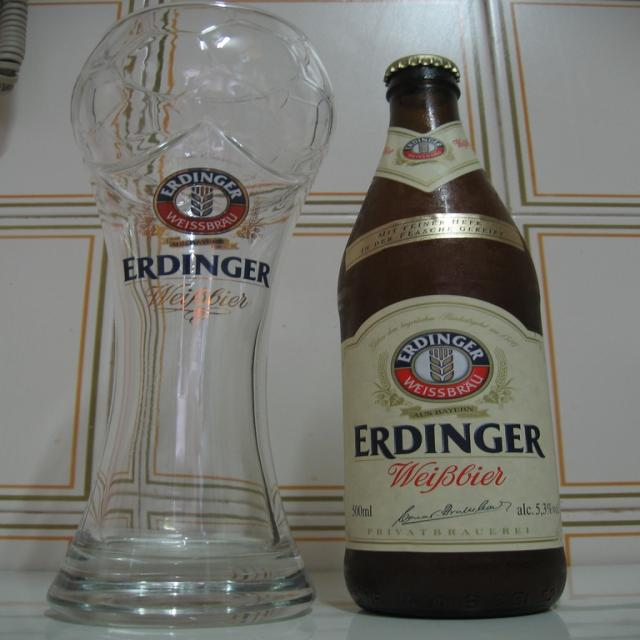erdinger: (348, 313, 557, 467), (119, 161, 283, 292), (395, 134, 459, 169)
